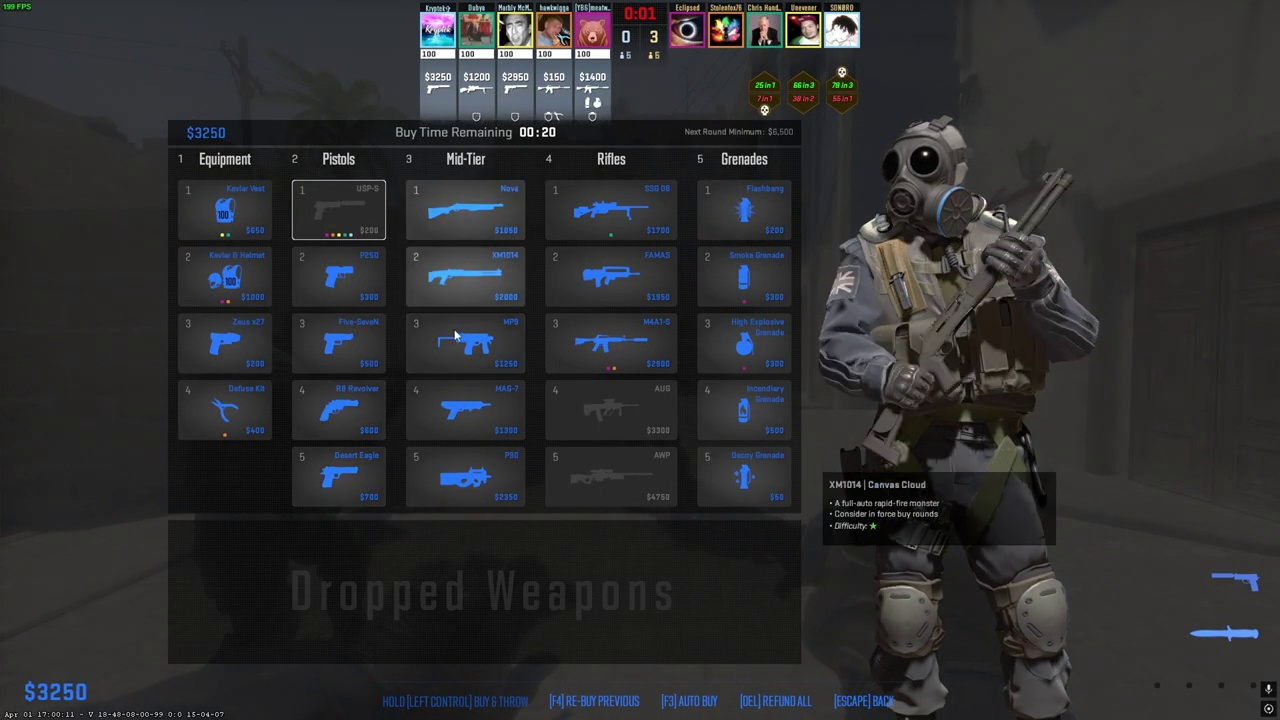CT: (849, 124, 1078, 720)
